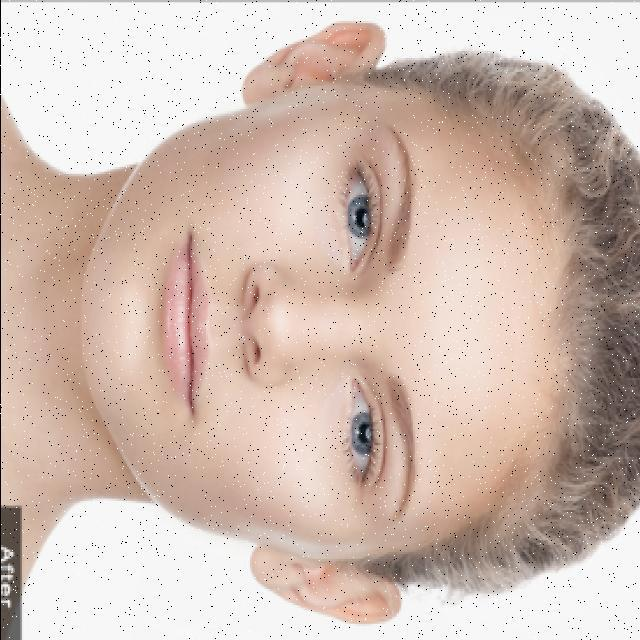face_no_mask: (73, 20, 553, 634)
